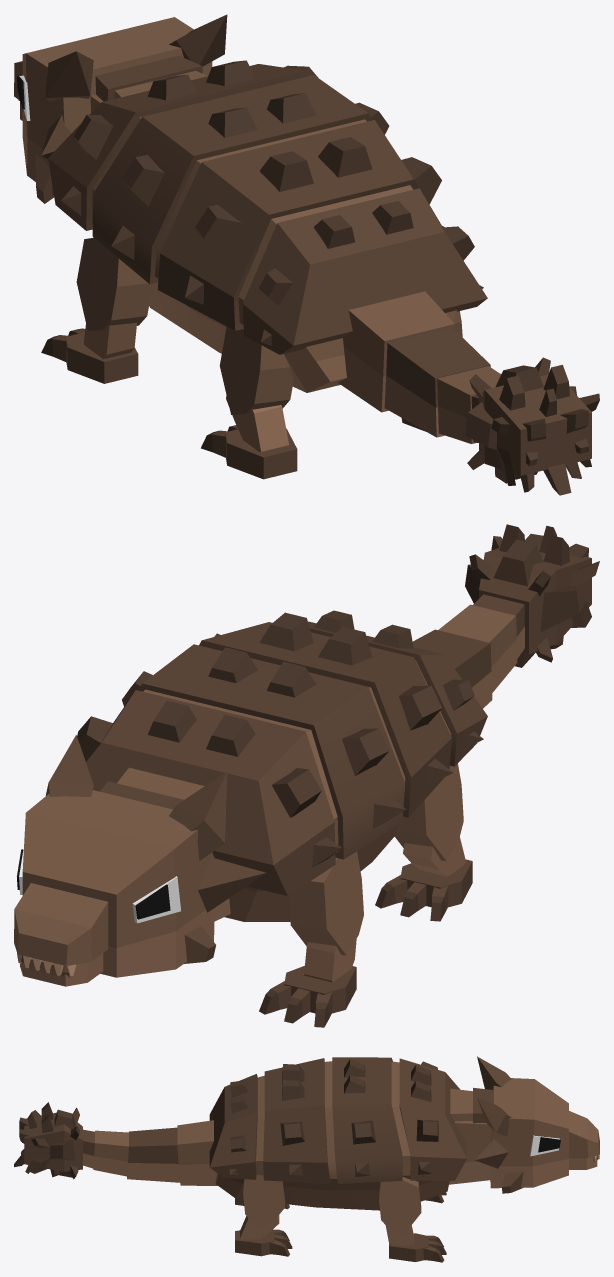
The model's file is ankyloasarus.obj.
The picture shows the model from 3 angles, top to bottom: view 1: azimuth 30°, elevation 25°; view 2: azimuth 150°, elevation 25°; view 3: azimuth 270°, elevation 25°; orthographic projection. The views are drawn at different scales.
Parts seen in each view (by area): view 1: Torso, Meshes/set_2_Ankyloasarus_003, Head, Tail, Meshes/set_2_Ankyloasarus_040, LeftArm, LeftLeg, LeftLegFoot, LeftArmHand, Meshes/set_2_Ankyloasarus_005, Meshes/set_2_Ankyloasarus_038, LeftAltLeg (+2 smaller); view 2: Torso, Head, Meshes/set_2_Ankyloasarus_003, Meshes/set_2_Ankyloasarus_012, LeftArm, LeftLeg, LeftArmHand, LeftLegFoot, Meshes/set_2_Ankyloasarus_027, Meshes/set_2_Ankyloasarus_038, Meshes/set_2_Ankyloasarus_040, Meshes/set_2_Ankyloasarus_005 (+3 smaller); view 3: Torso, Head, Meshes/set_2_Ankyloasarus_003, Meshes/set_2_Ankyloasarus_005, Meshes/set_2_Ankyloasarus_040, Tail, RightArm, RightLeg, Meshes/set_2_Ankyloasarus_038, Meshes/set_2_Ankyloasarus_027, Meshes/set_2_Ankyloasarus_012, RightArmHand (+4 smaller).
Boxes of the visible parts, bbox=[...] form: Torso: bbox=[48, 60, 487, 392]; Meshes/set_2_Ankyloasarus_003: bbox=[465, 357, 599, 495]; Head: bbox=[17, 14, 227, 203]; Tail: bbox=[338, 291, 454, 412]; Meshes/set_2_Ankyloasarus_040: bbox=[384, 327, 490, 437]; LeftArm: bbox=[76, 237, 151, 330]; LeftLeg: bbox=[219, 327, 293, 414]; LeftLegFoot: bbox=[201, 425, 297, 479]; LeftArmHand: bbox=[41, 328, 138, 383]; Meshes/set_2_Ankyloasarus_005: bbox=[90, 55, 207, 112]; Meshes/set_2_Ankyloasarus_038: bbox=[437, 366, 500, 443]; LeftAltLeg: bbox=[226, 395, 288, 451]; Torso: bbox=[77, 610, 487, 921]; Head: bbox=[17, 735, 266, 963]; Meshes/set_2_Ankyloasarus_003: bbox=[465, 524, 599, 667]; Meshes/set_2_Ankyloasarus_012: bbox=[14, 883, 108, 965]; LeftArm: bbox=[289, 851, 363, 955]; LeftLeg: bbox=[394, 763, 463, 861]; LeftArmHand: bbox=[259, 965, 356, 1027]; LeftLegFoot: bbox=[375, 859, 472, 921]; Meshes/set_2_Ankyloasarus_027: bbox=[100, 908, 214, 977]; Meshes/set_2_Ankyloasarus_038: bbox=[438, 604, 517, 693]; Meshes/set_2_Ankyloasarus_040: bbox=[412, 629, 492, 708]; Meshes/set_2_Ankyloasarus_005: bbox=[100, 767, 230, 921]; Torso: bbox=[209, 1057, 466, 1210]; Head: bbox=[475, 1056, 568, 1193]; Meshes/set_2_Ankyloasarus_003: bbox=[14, 1102, 94, 1179]; Meshes/set_2_Ankyloasarus_005: bbox=[449, 1087, 493, 1184]; Meshes/set_2_Ankyloasarus_040: bbox=[127, 1127, 180, 1182]; Tail: bbox=[177, 1120, 217, 1185]; RightArm: bbox=[379, 1177, 421, 1234]; RightLeg: bbox=[243, 1175, 285, 1228]; Meshes/set_2_Ankyloasarus_038: bbox=[93, 1130, 128, 1176]; Meshes/set_2_Ankyloasarus_027: bbox=[490, 1159, 568, 1188]; Meshes/set_2_Ankyloasarus_012: bbox=[569, 1111, 599, 1158]; RightArmHand: bbox=[389, 1233, 446, 1262].
Size of the model in its own units: 8.45 by 7.55 by 25.96.
